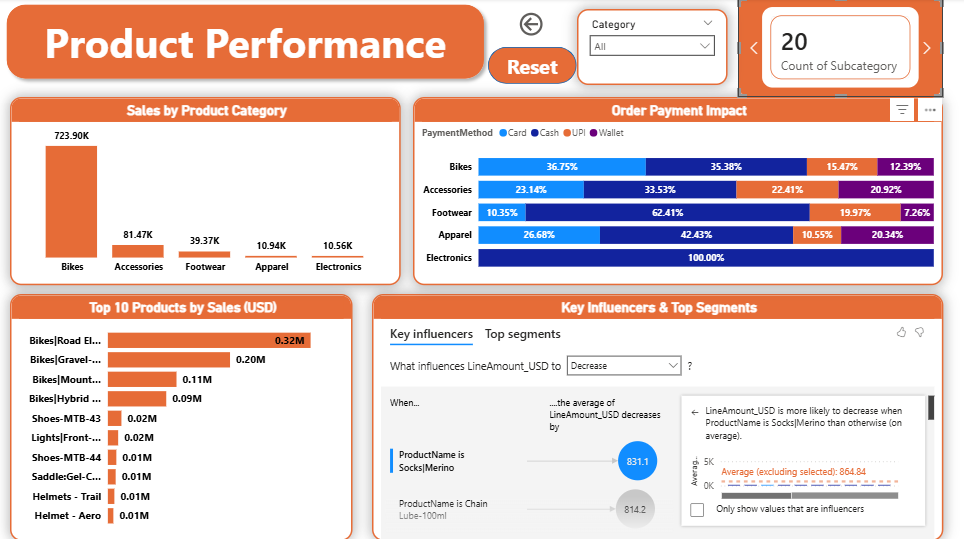

This screenshot's page, from the dashboard's own definition file:
{"tool":"powerbi","page":{"name":"DB2: Product Performance","canvas":[1280,720],"ordinal":1},"visuals":[{"type":"clusteredBarChart","title":"Top 10 Products by Sales (USD)","fields":{"Category":["DimProduct.ProductName"],"Y":["Sum(FactSales.LineAmount_USD)"]},"box":[13.4,393.1,455.2,327.6],"z":0},{"type":"keyDriversVisual","title":"Key Influencers & Top Segments","fields":{"Target":["FactSales.LineAmount_USD"],"ExplainBy":["DimProduct.ProductName"]},"box":[493.9,393.1,759.3,327.6],"z":1000},{"type":"clusteredColumnChart","title":"Sales by Product Category","fields":{"Y":["Sum(FactSales.LineAmount_USD)"],"Category":["DimProduct.Category"]},"box":[13.4,131,519.1,250.3],"z":2000},{"type":"hundredPercentStackedBarChart","title":"Order Payment Impact","fields":{"Category":["DimProduct.Category"],"Y":["Sum(FactSales.LineAmount_USD)"],"Series":["DimOrders.PaymentMethod"]},"box":[549.3,131,703.8,250.3],"z":3000},{"type":"cardVisual","fields":{"Data":["Count(FactSales.ProductID)","Count(DimProduct.Subcategory)","Avg(DimProduct.UnitPrice)"]},"box":[981,0,272.1,131],"z":4000},{"type":"slicer","fields":{"Values":["DimProduct.Category"]},"box":[766,15.1,199.9,100.8],"z":5000},{"type":"shape","box":[0,0,651.8,115.9],"z":6000},{"type":"actionButton","box":[685.4,15.1,100.8,40.3],"z":7000},{"type":"shape","box":[648.4,65.5,117.6,48.7],"z":8000}]}

Visuals, with their boxes in screenshot pixels (x1, y1, x2, y2), scaled from the page's 1280x720 canvas onto the 964x539 screenshot:
"Top 10 Products by Sales (USD)" clusteredBarChart: bbox=[10, 294, 353, 538]
"Key Influencers & Top Segments" keyDriversVisual: bbox=[372, 294, 944, 538]
"Sales by Product Category" clusteredColumnChart: bbox=[10, 98, 401, 285]
"Order Payment Impact" hundredPercentStackedBarChart: bbox=[414, 98, 944, 285]
cardVisual - Count(FactSales.ProductID) x Count(DimProduct.Subcategory): bbox=[739, 0, 944, 98]
slicer - DimProduct.Category: bbox=[577, 11, 727, 87]
shape: bbox=[0, 0, 491, 87]
actionButton: bbox=[516, 11, 592, 41]
shape: bbox=[488, 49, 577, 85]
